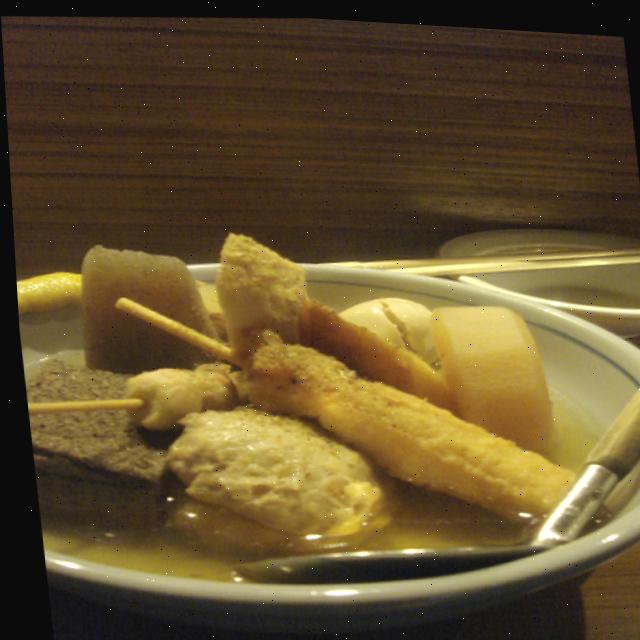汤锅炖物: (10, 204, 589, 565)
